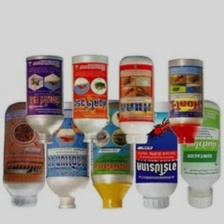insecticide: (87, 97, 136, 211), (41, 100, 92, 209), (132, 99, 181, 212), (178, 97, 223, 208), (2, 100, 47, 210), (23, 52, 66, 146), (70, 52, 111, 144), (165, 57, 206, 145), (118, 55, 156, 145)
